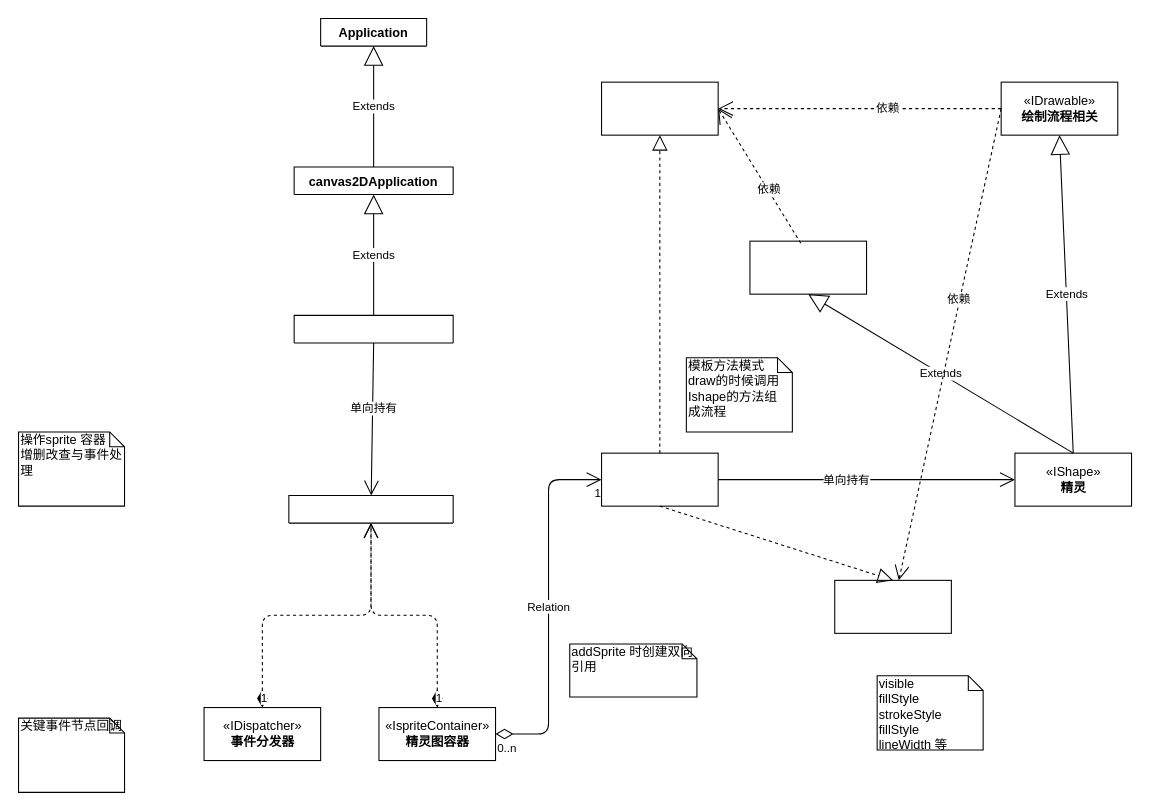
The diagram is 1150 pixels wide and 811 high, and some of its shapes have lost their labels. Here are the shapes that lost their labels. From the top down, the box of each, then its label:
(600, 81, 718, 135): «ITransformable» 变换接口与坐标信息
(749, 240, 867, 294): «IHittable» 碰撞检测方法
(293, 314, 453, 343): Sprite2DApplication
(600, 452, 718, 506): «Isprite» 精灵
(288, 494, 453, 523): Sprite2DManageer
(834, 579, 951, 633): «IRenderState» 渲染状态
